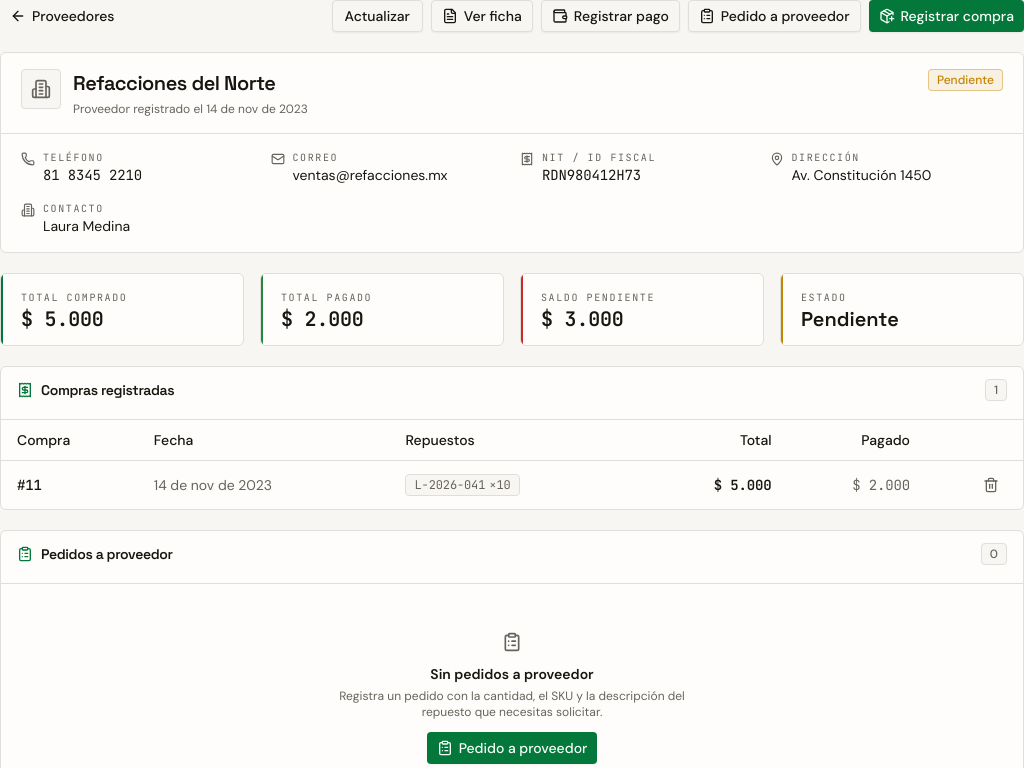
Test: SupplierDetailPage › surfaces the backend rejection when the purchase deletion fails
Expected: the table with test id "supplier_detail.purchases.table" is shown, [1,420,1023,508]
Step 1. Click the button with test id "supplier_detail.delete_purchase_button.1" → {"x": 991, "y": 484}, box [975,468,1007,500]
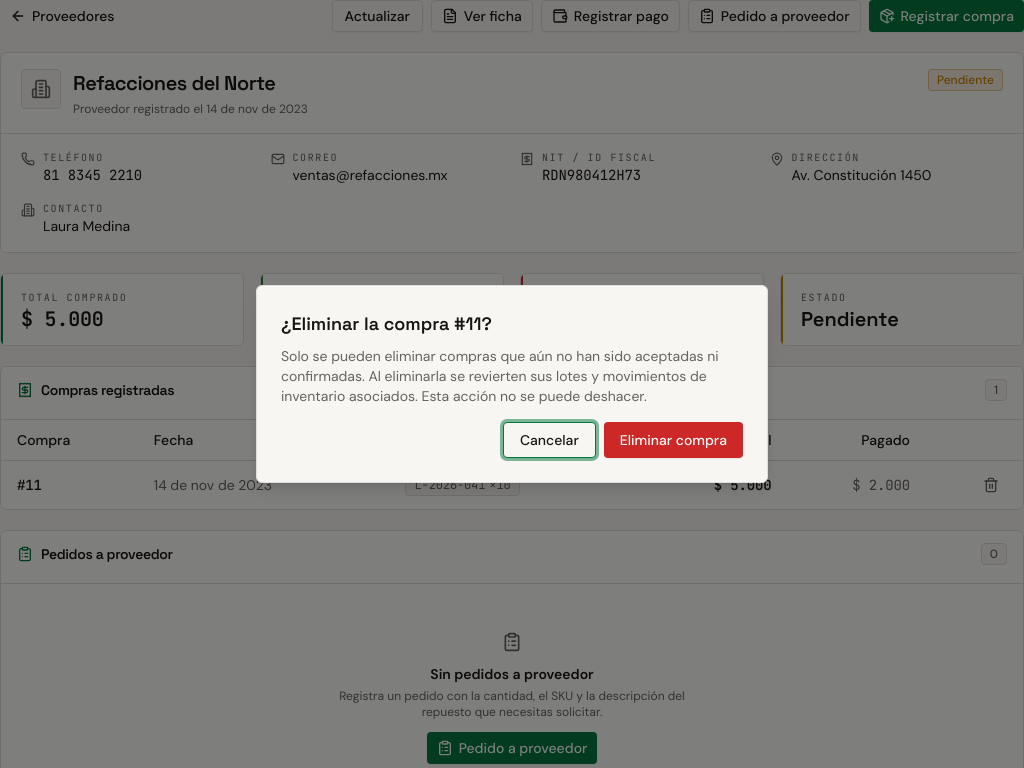
Step 2. Click the button with test id "supplier_detail.delete_purchase_confirm_button" → {"x": 673, "y": 440}, box [604,422,743,458]
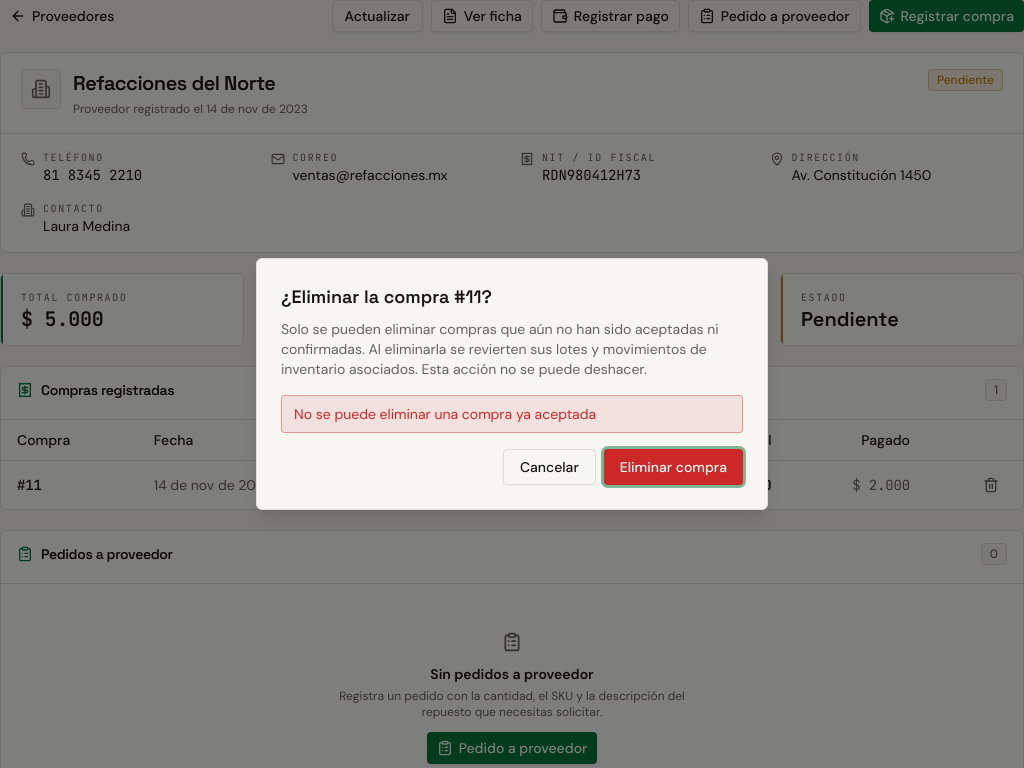
Expected: the text with test id "supplier_detail.delete_purchase_error" reads "No se puede eliminar una compra ya aceptada", [294,405,596,423]
